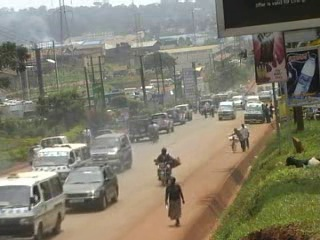Car: (60, 162, 120, 209), (125, 112, 162, 146), (148, 111, 175, 136), (197, 94, 219, 117), (163, 105, 186, 125), (229, 92, 243, 110)
Motorcycle: (150, 144, 182, 191), (144, 119, 160, 145), (192, 98, 198, 116)
